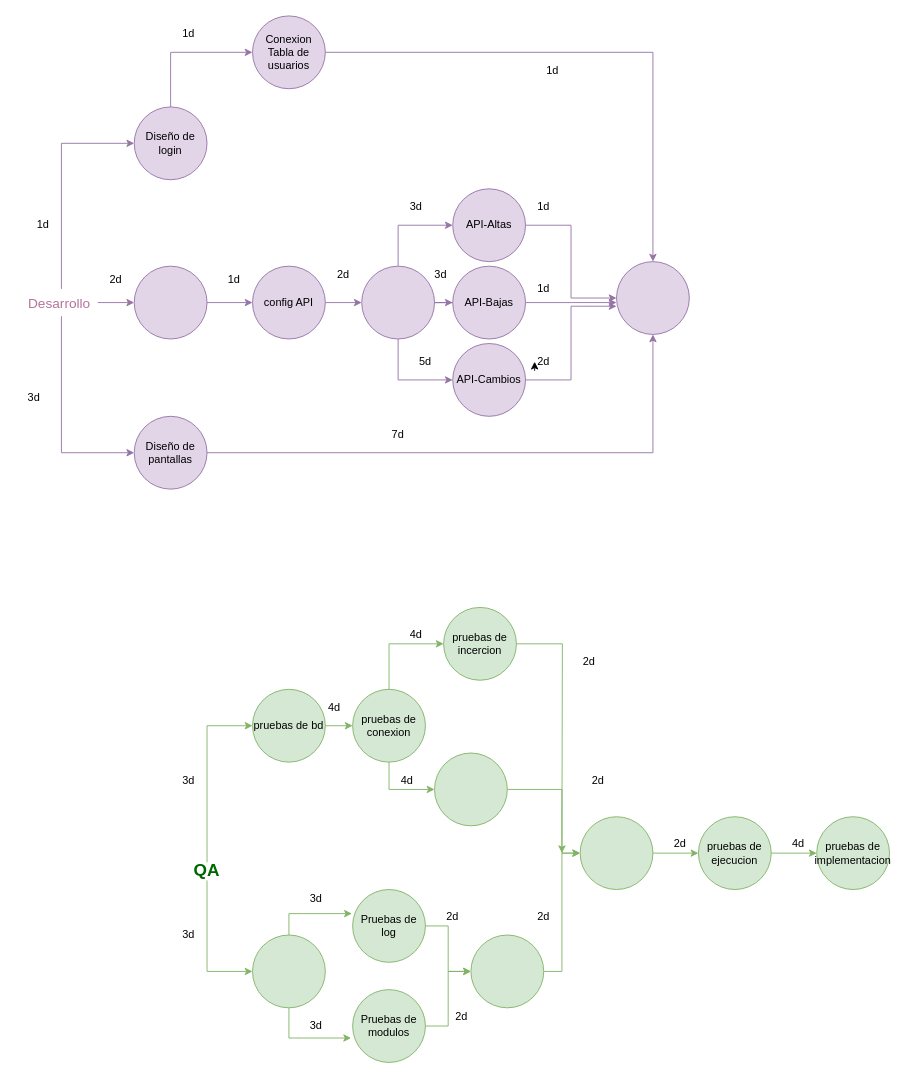
The diagram is 906 pixels wide and 1078 high, and some of its shapes have lost their labels. The centre of each missing label's shape, as x and y in pixels:
"Conexion API" goes at (398,302).
"Diseño ABC" goes at (170,302).
"pruebas de ABC" goes at (616,853).
"pruebas de actualizacion" goes at (470,789).
"pruebas de desarrollo" goes at (288,971).
"pruebas de integracion" goes at (507,971).
"Unir Sistema" goes at (652,297).
